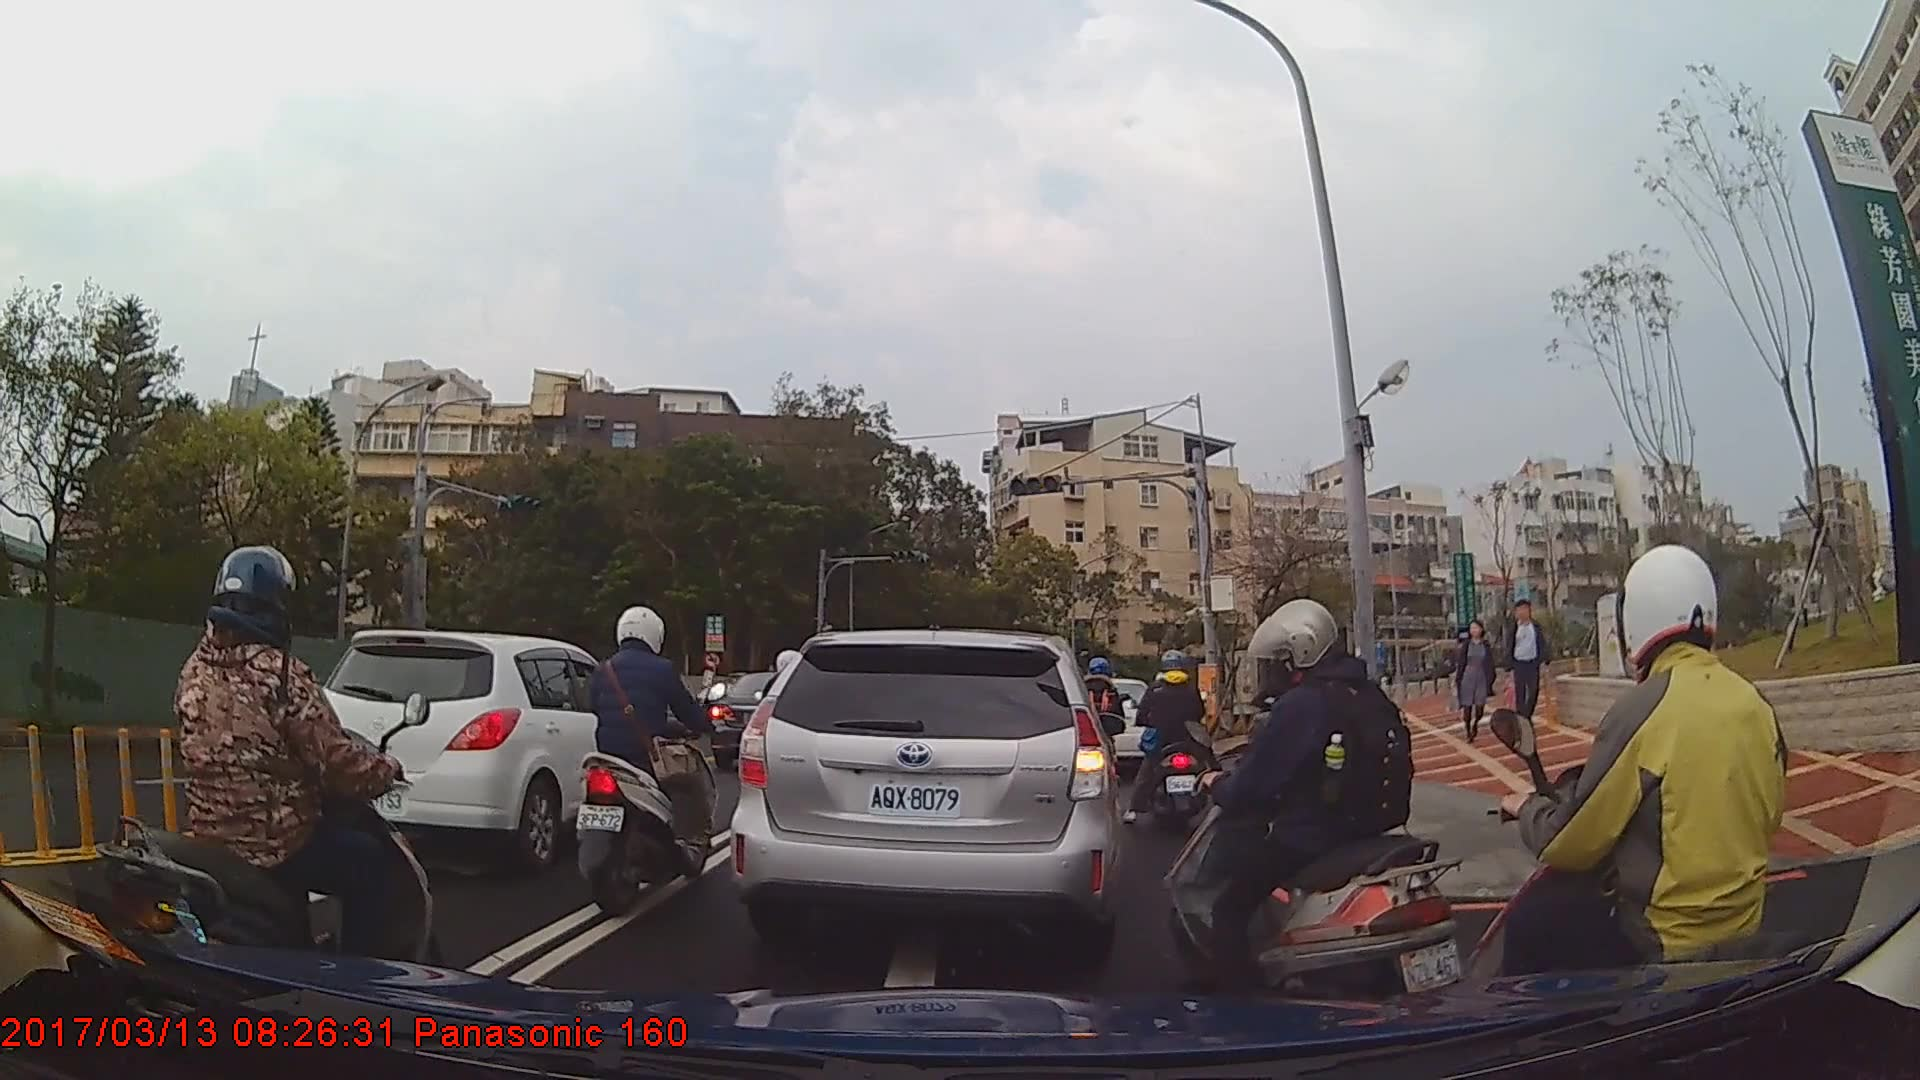pedestrian: (1503, 601, 1548, 746), (1449, 619, 1496, 743)
rider: (1454, 548, 1853, 1075), (88, 541, 434, 1008), (1163, 598, 1468, 1017), (569, 605, 727, 920), (1128, 643, 1230, 844), (1064, 659, 1128, 795)
vehicle: (728, 627, 1123, 954), (299, 628, 665, 861), (708, 671, 825, 771)
